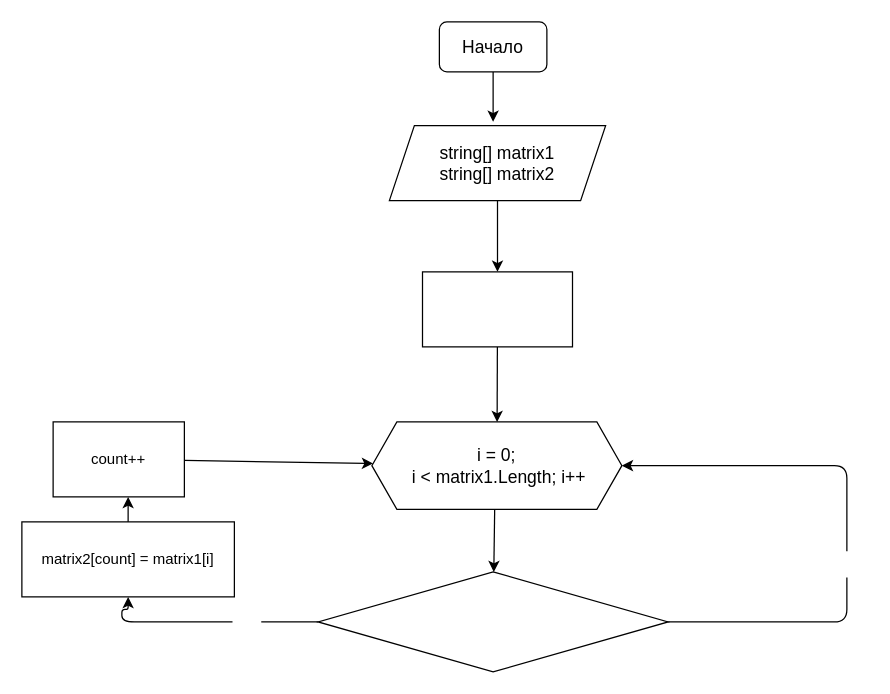
This 890x694 diagram has some shape labels left out. Each missing label, with the box of its shape:
count = 0;: (421, 271, 572, 347)
matrix1[i].Length <= 3: (317, 571, 668, 672)
